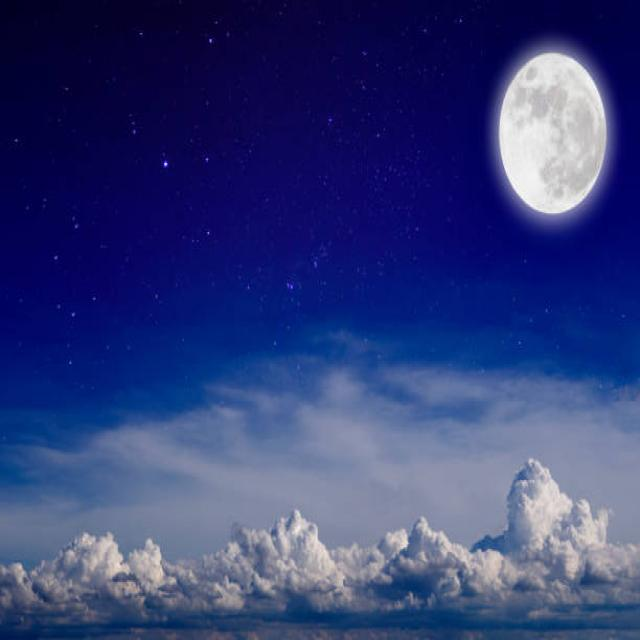moon: (500, 52, 604, 212)
